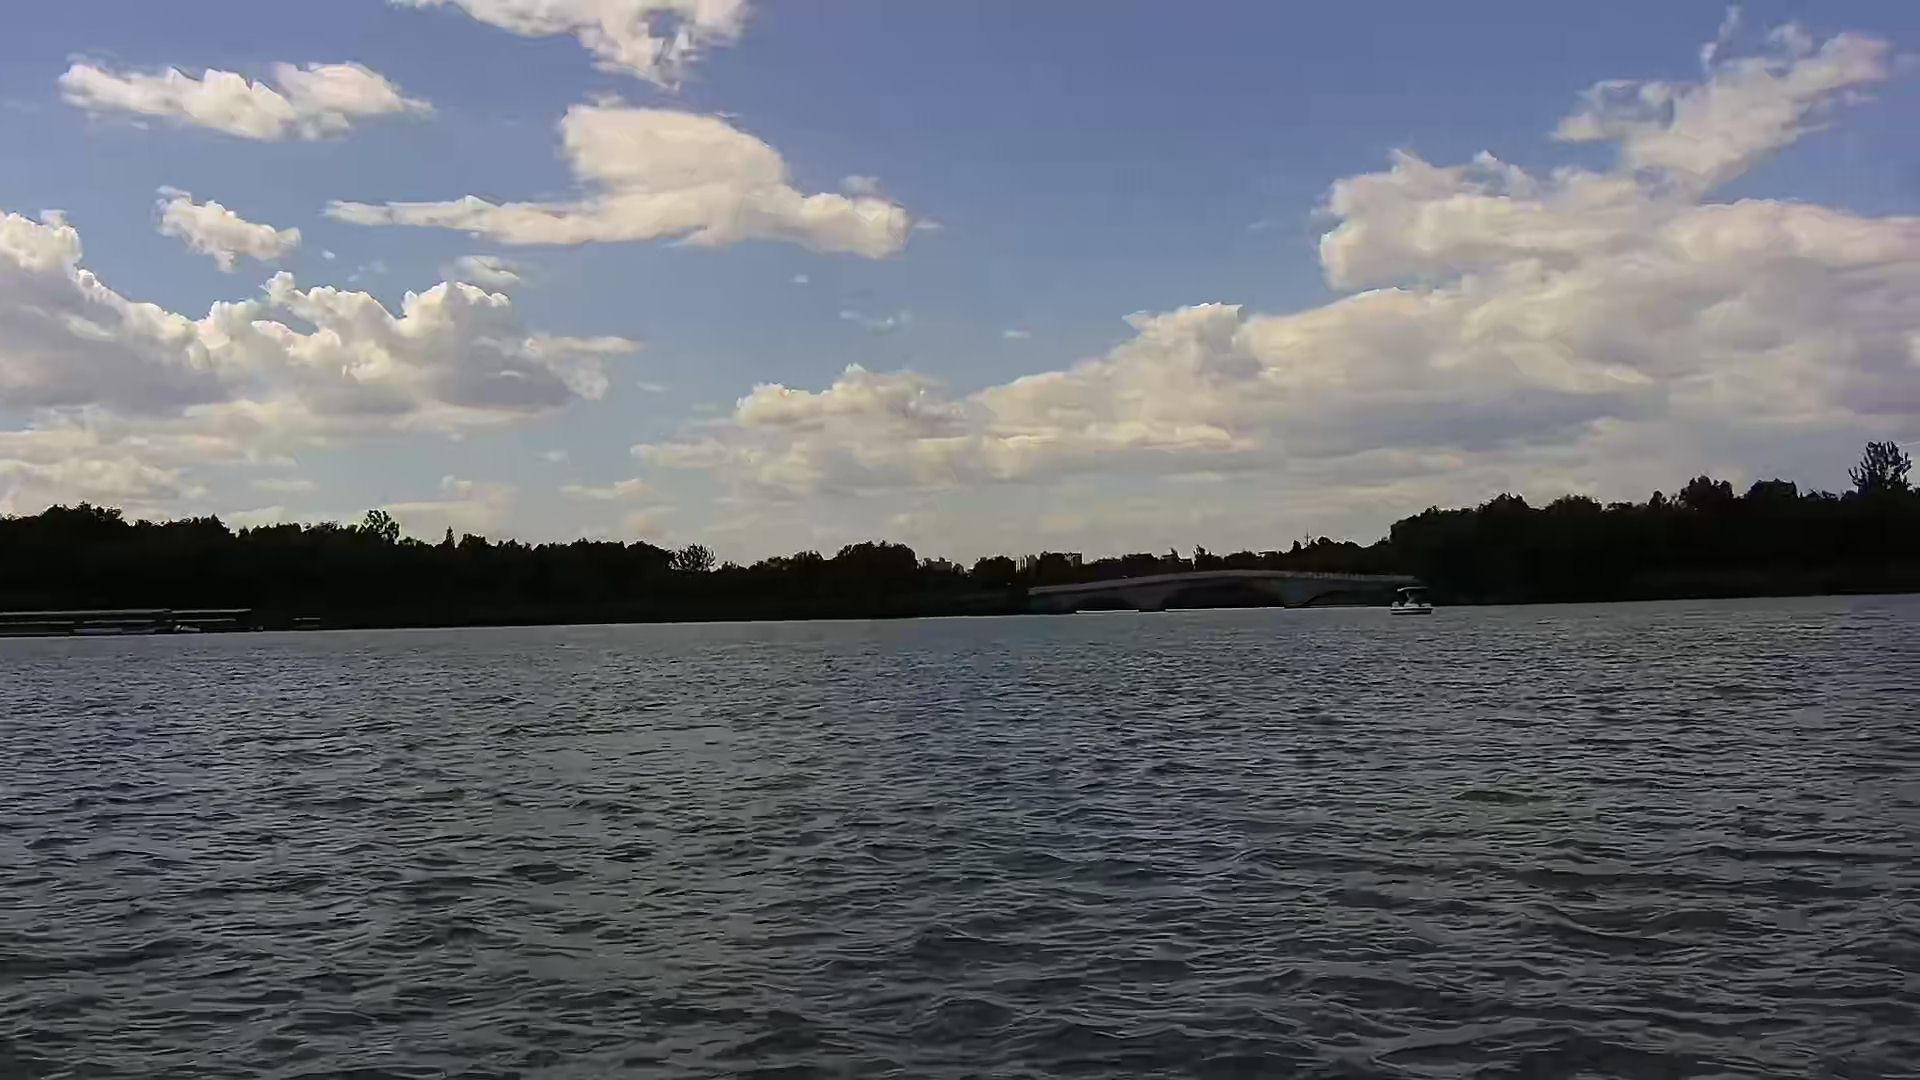boat: (1386, 588, 1435, 618)
bridge: (1034, 575, 1412, 612), (3, 611, 243, 637)
